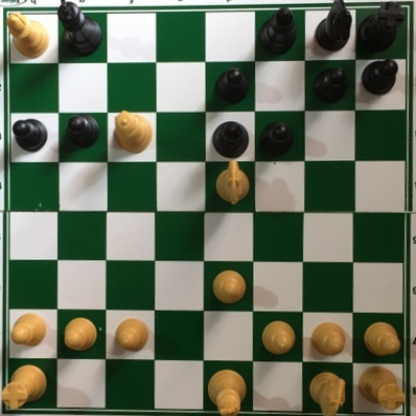black-bishop: (254, 1, 297, 57), (211, 119, 250, 162)
black-king: (54, 1, 105, 58)
black-knight: (315, 1, 353, 55)
black-pawn: (310, 64, 349, 104), (361, 57, 399, 97), (214, 66, 250, 106), (258, 120, 295, 158), (10, 117, 48, 153), (64, 114, 100, 149)
black-rook: (355, 1, 404, 54)
white-bishop: (5, 10, 53, 61)
white-king: (205, 366, 247, 416)
white-knight: (307, 369, 347, 416), (212, 154, 249, 202)
white-pawn: (8, 308, 49, 348), (209, 267, 249, 308), (261, 313, 299, 356), (360, 319, 400, 358), (59, 315, 100, 353), (309, 320, 347, 359), (111, 317, 150, 352)
white-queen: (112, 109, 153, 153)
white-rook: (354, 361, 405, 411), (1, 361, 44, 411)
